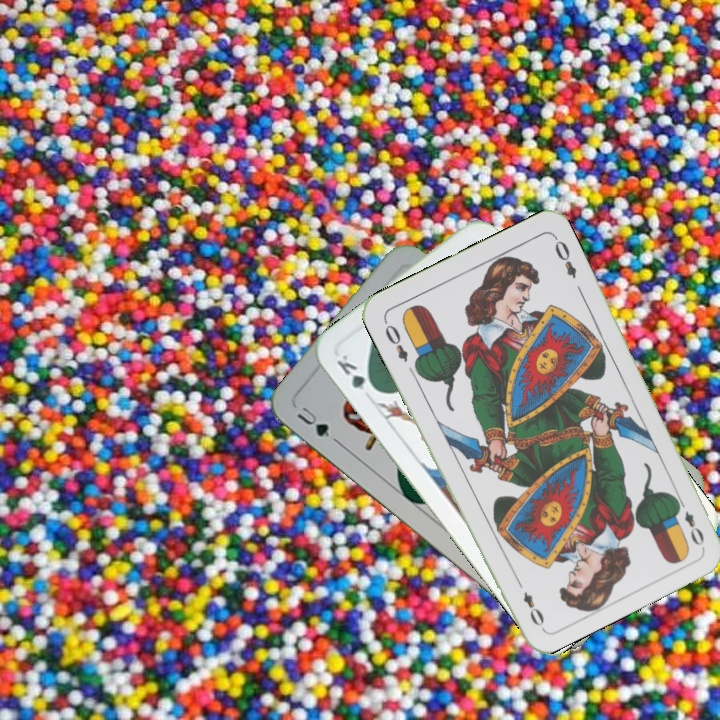EO: (672, 494, 707, 549), (379, 316, 411, 365)
GK: (332, 350, 380, 395)
GU: (292, 402, 334, 440)
